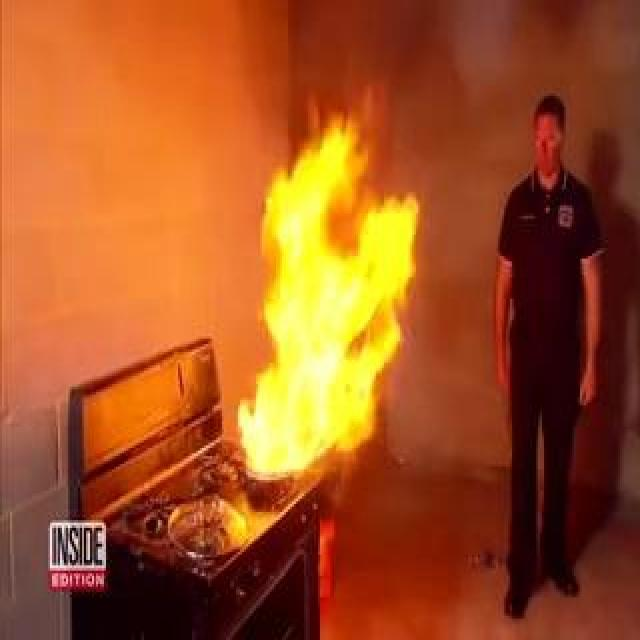Fire: (202, 286, 337, 400)
